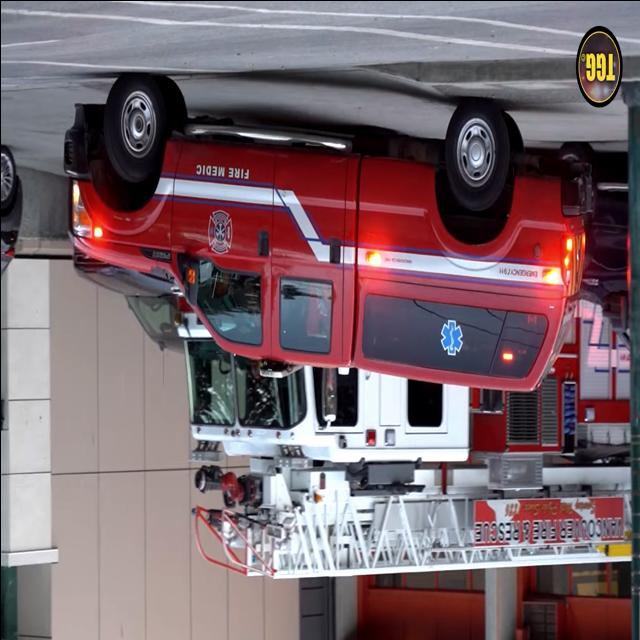emergency-vehicles: (153, 159, 640, 589), (43, 48, 599, 406)
